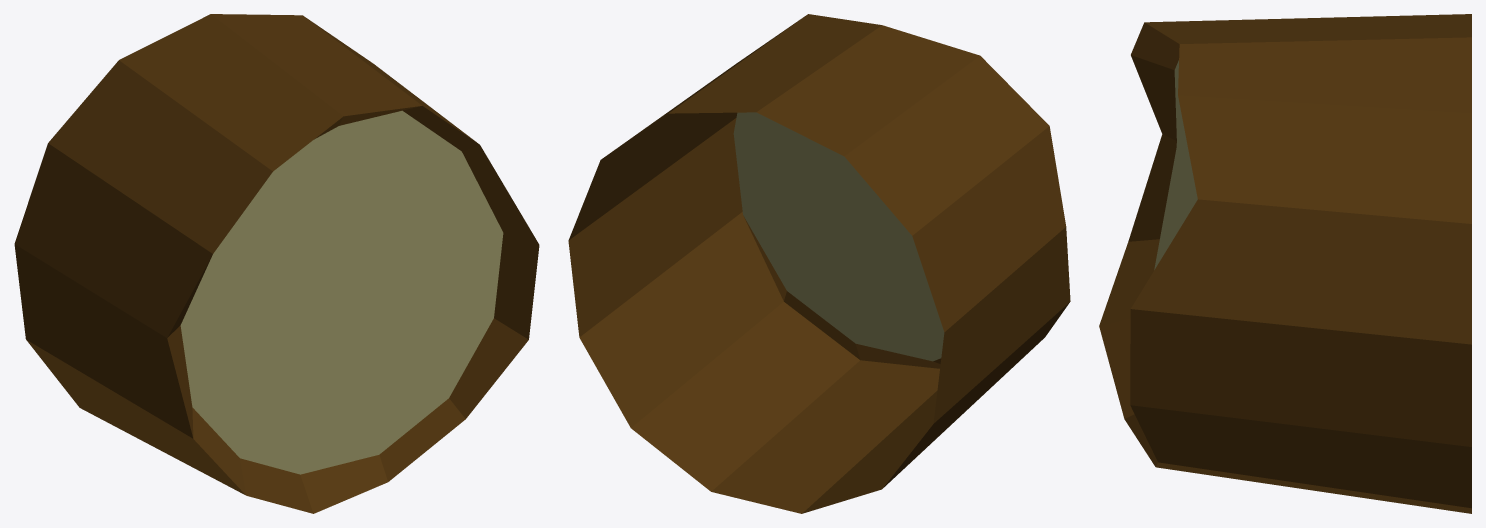
The model's file is UglyKnot.fbx.
3 renders of one model, left to right at view 1: azimuth 30°, elevation 25°; view 2: azimuth 150°, elevation 25°; view 3: azimuth 270°, elevation 25°, orthographic. The views are drawn at different scales.
Visible parts, largest first — view 1: UglyBranch; view 2: UglyBranch; view 3: UglyBranch.
Part boxes in pixels (x1,y1,x2,y2): UglyBranch: (14,14,539,513); UglyBranch: (568,14,1070,513); UglyBranch: (1099,14,1471,513).
Bounding box in the file's own units: 199 × 197 × 148.
